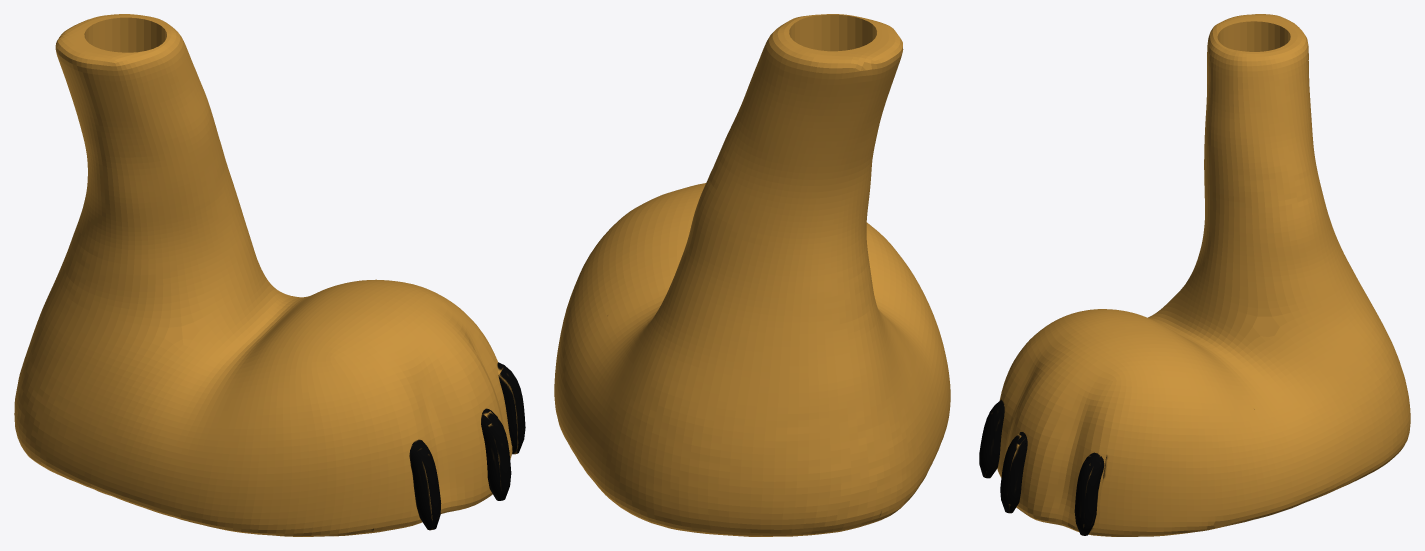
Rendered from bear.glb.
3 renders of one model, left to right at view 1: azimuth 30°, elevation 25°; view 2: azimuth 150°, elevation 25°; view 3: azimuth 270°, elevation 25°, orthographic. The views are drawn at different scales.
Visible parts, largest first — view 1: LEG_R.002; view 2: LEG_R.002; view 3: LEG_R.002.
Boxes of the visible parts, bbox=[...] form: LEG_R.002: bbox=[14, 14, 525, 536]; LEG_R.002: bbox=[554, 14, 950, 536]; LEG_R.002: bbox=[979, 14, 1410, 536].
Size of the model in its own units: 30.46 by 32.26 by 33.55.
1 material, 1 textured.
